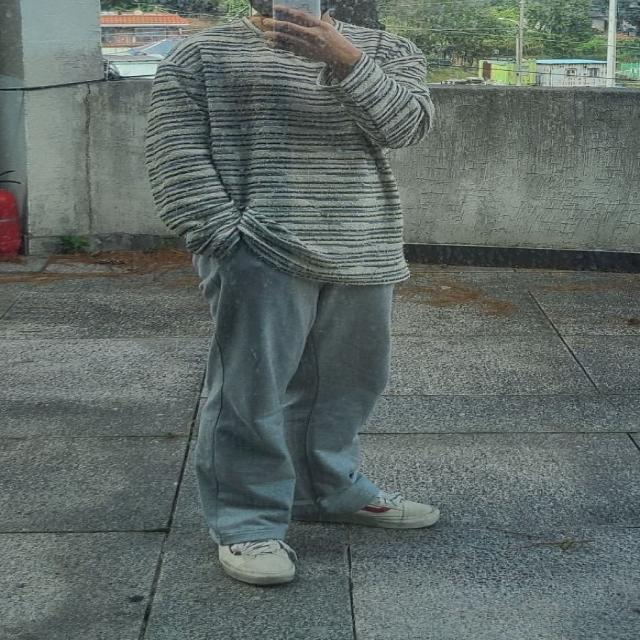denimpants: (200, 236, 400, 552)
longsleeve: (146, 16, 432, 286)
